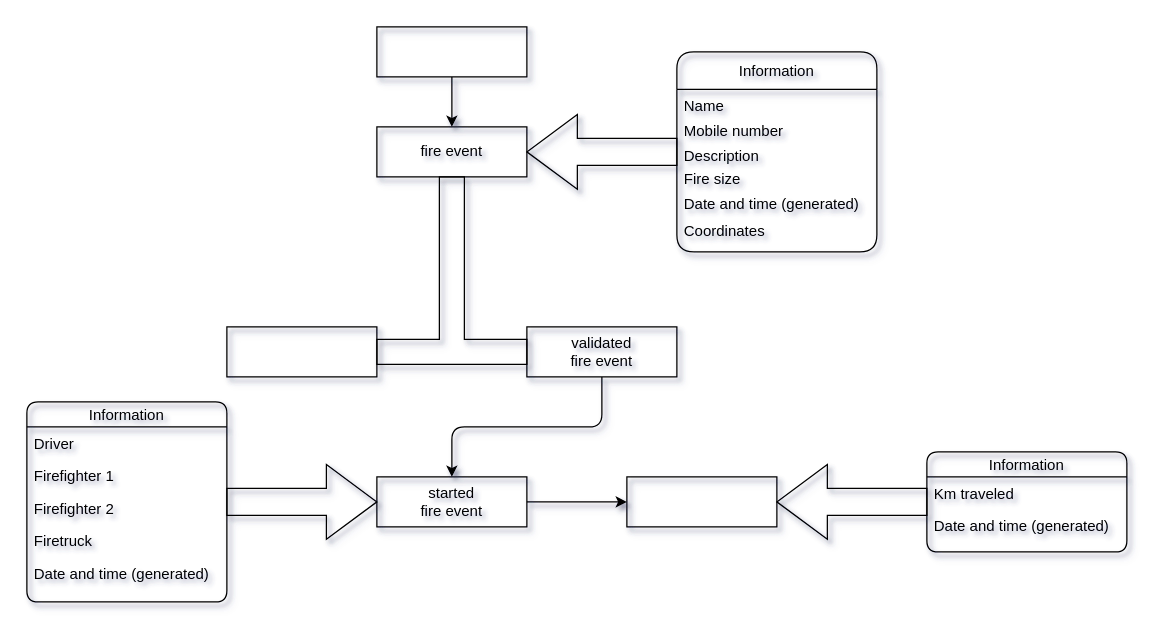
The diagram is 1164 pixels wide and 640 high, and some of its shapes have lost their labels. Here are the shapes that lost their labels. From the top down, the centre of each, then its label:
[452,53]: SUBMIT
[302,353]: rejected fire event
[702,503]: finished fire event
